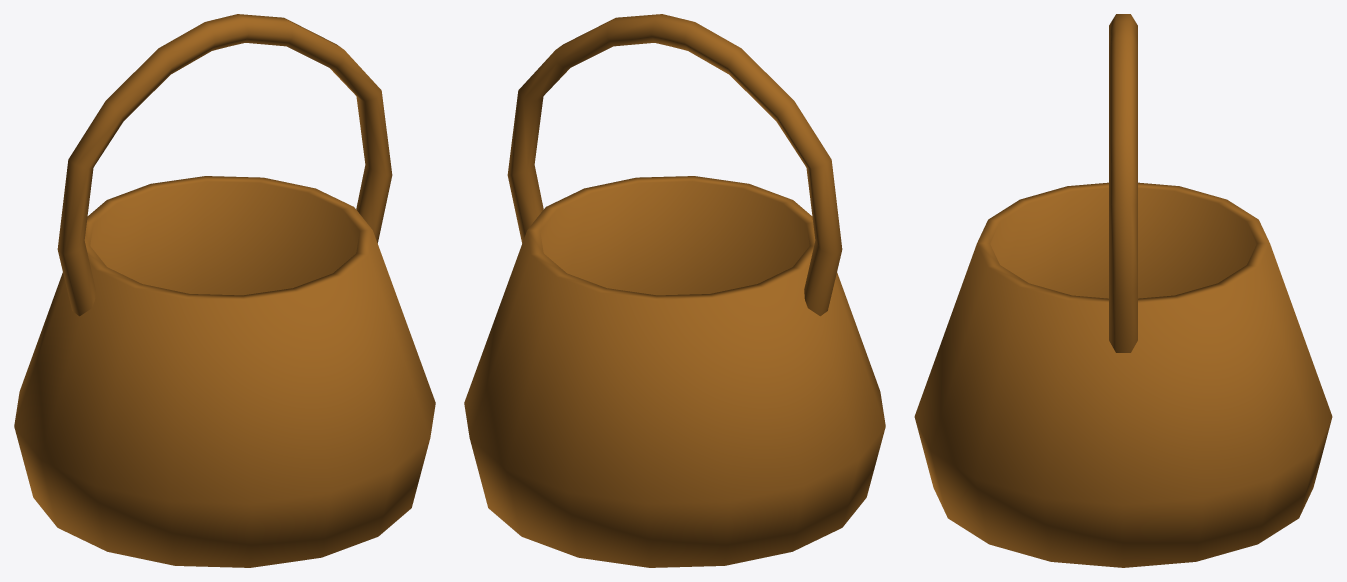
The model's file is Pot_02.fbx.
The picture shows the model from 3 angles, left to right: view 1: azimuth 30°, elevation 25°; view 2: azimuth 150°, elevation 25°; view 3: azimuth 270°, elevation 25°; orthographic projection.
Visible parts, largest first — view 1: Pot_02; view 2: Pot_02; view 3: Pot_02.
Part boxes in pixels (bbox=[...]): Pot_02: bbox=[14, 14, 435, 567]; Pot_02: bbox=[464, 14, 885, 567]; Pot_02: bbox=[914, 14, 1332, 567].
Bounding box in the file's own units: 38.27 × 46.29 × 38.27.
